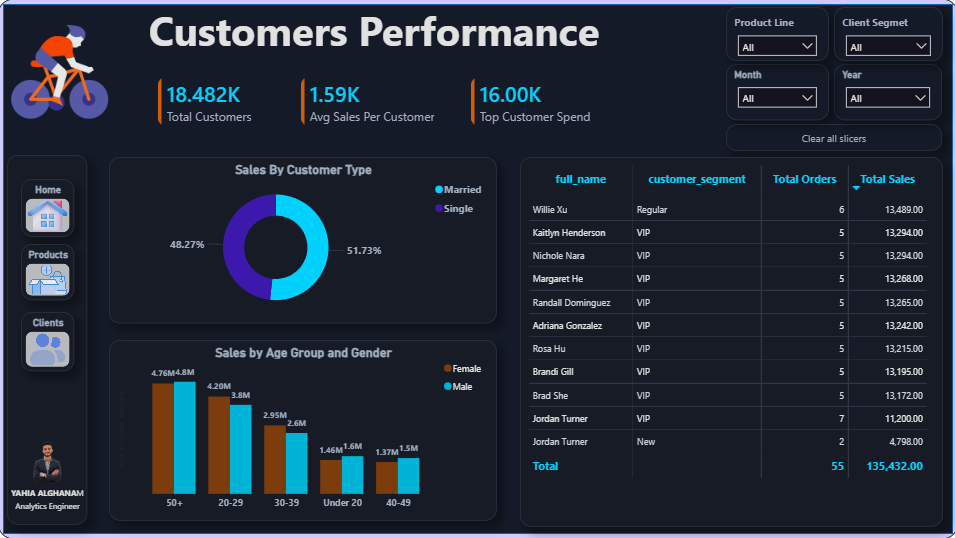

The page's visual inventory and layout, read from the dashboard file:
{"tool":"powerbi","page":{"name":"Clients","canvas":[1280,720],"ordinal":2},"visuals":[{"type":"shape","box":[0,0,1280,720],"z":0},{"type":"textbox","box":[196,0,865.3,86.7],"z":1000},{"type":"shape","box":[12.4,207.8,107.4,492.7],"z":2000},{"type":"cardVisual","fields":{"Data":["Count(fact_sales.customer_key)"]},"box":[196,86.7,221.3,100],"z":3000},{"type":"donutChart","title":"Sales By Customer Type","fields":{"Category":["dim_customers.maritial_status"],"Y":["Sum(fact_sales.sales_amount)"]},"box":[147.4,210.8,516.7,221.8],"z":4000},{"type":"clusteredColumnChart","title":"Sales by Age Group and Gender","fields":{"Category":["dim_customers.age_group"],"Y":["Sum(fact_sales.sales_amount)"],"Series":["dim_customers.gender"]},"box":[147.4,454.7,516.7,241.1],"z":5000},{"type":"actionButton","title":"Home","box":[31.1,240.3,70.8,77.3],"z":6000},{"type":"slicer","title":"Year","fields":{"Values":["dim_date.order_year"]},"box":[1114.7,86.7,144,74.7],"z":7000},{"type":"slicer","title":"Month","fields":{"Values":["dim_date.order_month"]},"box":[970.7,86.7,137.3,74.7],"z":8000},{"type":"actionButton","title":"Products","box":[31.1,327.2,70.8,75.1],"z":9000},{"type":"actionButton","title":"Clients","box":[31.1,417.4,70.8,79.4],"z":10000},{"type":"image","box":[12.7,0,138.1,194.5],"z":11000},{"type":"slicer","fields":{"Values":["dim_products.product_line"]},"box":[970.7,10.7,137.3,72],"z":12000},{"type":"slicer","fields":{"Values":["dim_customers.customer_segment"]},"box":[1114.7,10.7,145.3,72],"z":13000},{"type":"actionButton","box":[970.7,166.7,288,36],"z":14000},{"type":"cardVisual","fields":{"Data":["dim_customers.Avg Sales Per Customer"]},"box":[386.7,86.7,237.3,100],"z":15000},{"type":"cardVisual","fields":{"Data":["dim_customers.Top Customer Spend"]},"box":[613.3,86.7,237.3,100],"z":16000},{"type":"tableEx","fields":{"Values":["dim_customers.full_name","dim_customers.customer_segment","fact_sales.Total Orders","fact_sales.Total Sales"]},"box":[695.8,210.8,563.5,493.3],"z":17000},{"type":"image","box":[25.3,582.7,81.3,61.3],"z":17001},{"type":"textbox","box":[12,644,108,48],"z":17002}]}

Visuals, with their boxes in screenshot pixels (x1, y1, x2, y2), scaled from the page's 1280x720 canvas onto the 955x538 screenshot:
shape: locate(0, 0, 954, 537)
textbox: locate(146, 0, 792, 65)
shape: locate(9, 155, 89, 523)
cardVisual - Count(fact_sales.customer_key): locate(146, 65, 311, 140)
"Sales By Customer Type" donutChart: locate(110, 158, 495, 323)
"Sales by Age Group and Gender" clusteredColumnChart: locate(110, 340, 495, 520)
"Home" actionButton: locate(23, 180, 76, 237)
"Year" slicer: locate(832, 65, 939, 121)
"Month" slicer: locate(724, 65, 827, 121)
"Products" actionButton: locate(23, 244, 76, 301)
"Clients" actionButton: locate(23, 312, 76, 371)
image: locate(9, 0, 113, 145)
slicer - dim_products.product_line: locate(724, 8, 827, 62)
slicer - dim_customers.customer_segment: locate(832, 8, 940, 62)
actionButton: locate(724, 125, 939, 151)
cardVisual - dim_customers.Avg Sales Per Customer: locate(289, 65, 466, 140)
cardVisual - dim_customers.Top Customer Spend: locate(458, 65, 635, 140)
tableEx - dim_customers.full_name x dim_customers.customer_segment: locate(519, 158, 940, 526)
image: locate(19, 435, 80, 481)
textbox: locate(9, 481, 90, 517)
